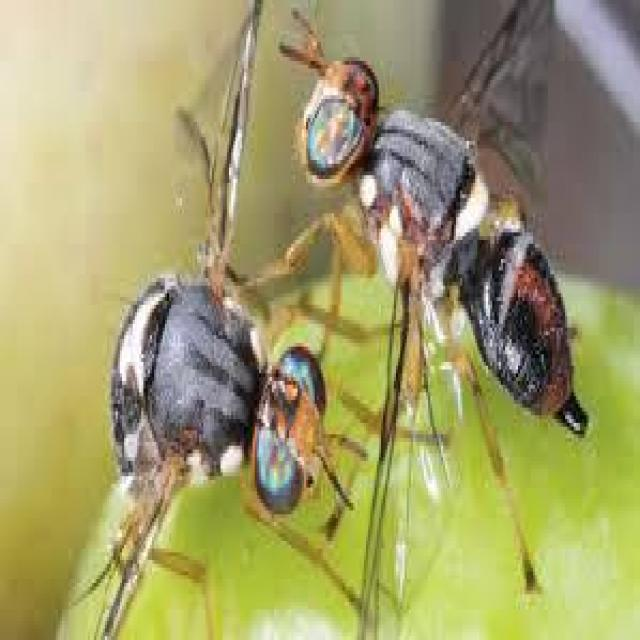Olive Fruit Fly: (73, 0, 612, 636)
